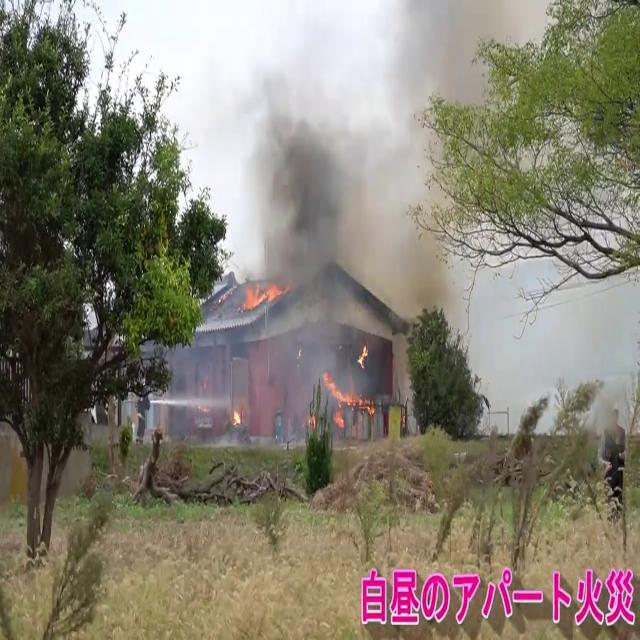Fire: (241, 272, 287, 315)
Smoke: (224, 16, 453, 414)
